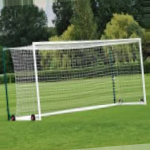goals: (10, 38, 149, 122)
